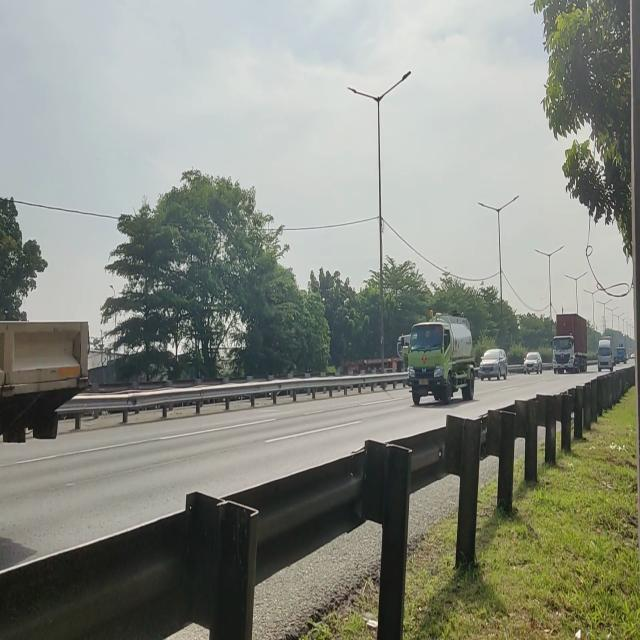Golongan II: (397, 314, 479, 414)
